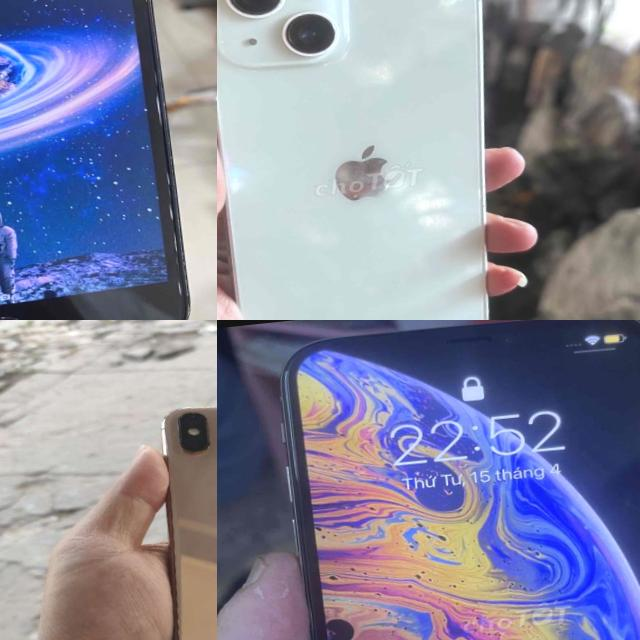gen_15: (217, 0, 532, 320)
gen_7_8: (0, 0, 201, 320)
gen_x_xs: (280, 320, 640, 640), (136, 377, 217, 640)
scratch: (155, 170, 192, 312), (323, 140, 398, 206)
